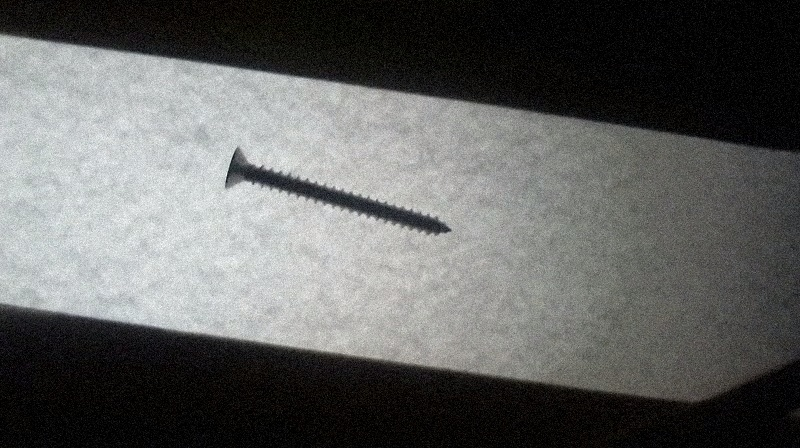S002: (220, 142, 457, 237)
